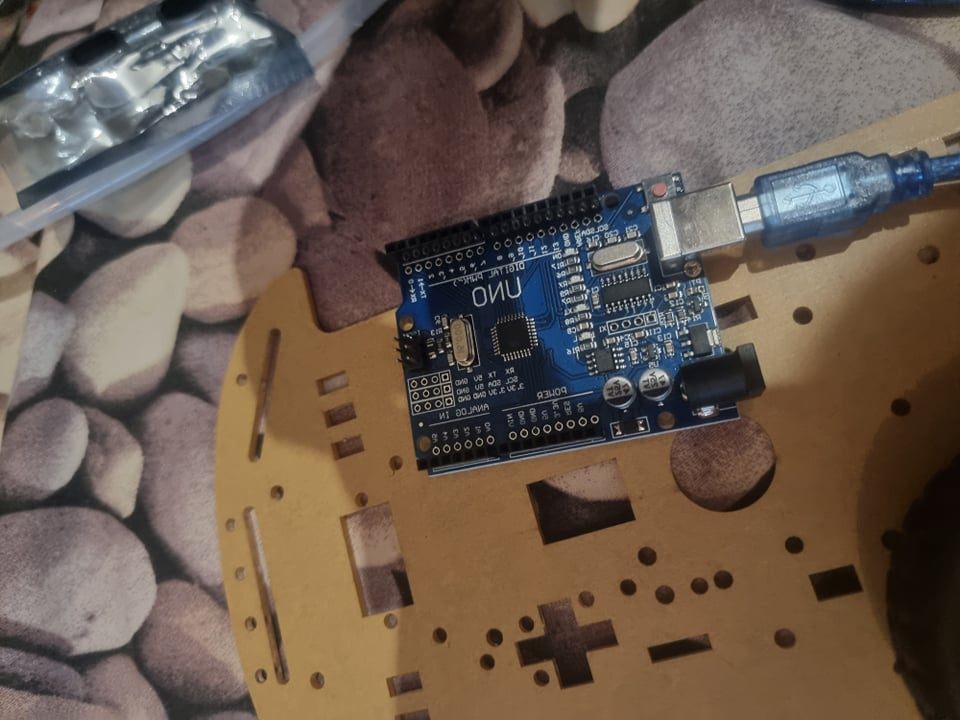UNO R3: (384, 156, 767, 484)
